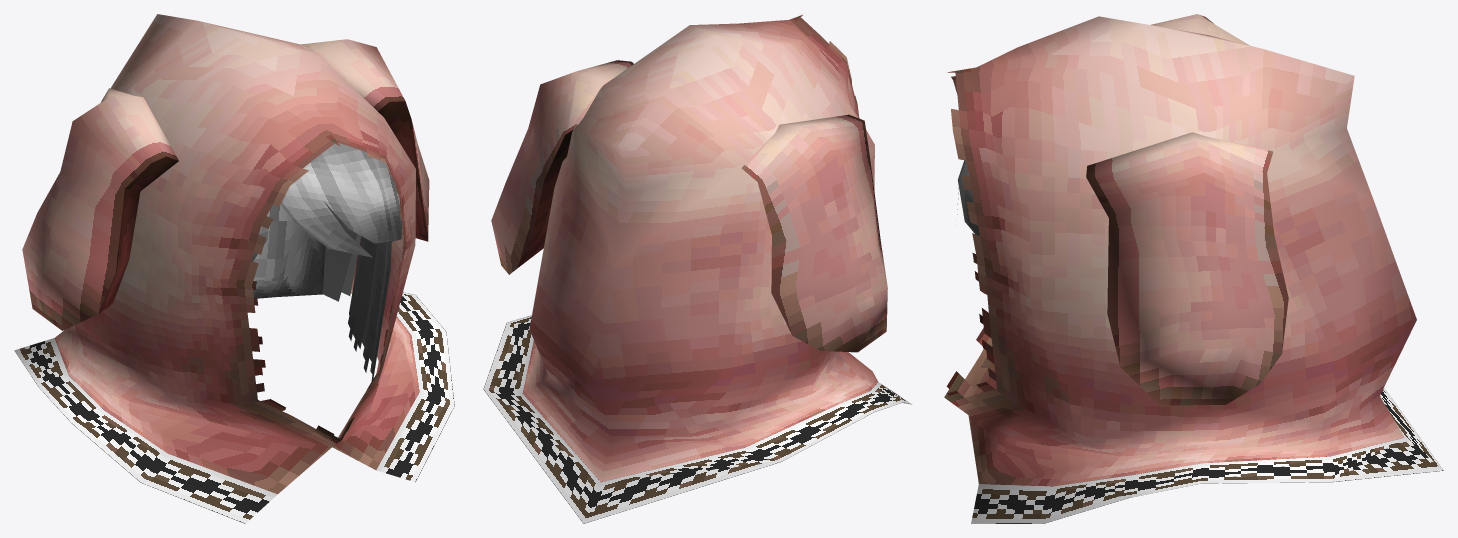
File: f_hair248.glb
3 renders of one model, left to right at view 1: azimuth 30°, elevation 25°; view 2: azimuth 150°, elevation 25°; view 3: azimuth 270°, elevation 25°, orthographic. The views are drawn at different scales.
Bounding box in the file's own units: 30.25 × 30.7 × 30.91.
1 material, 1 textured.
